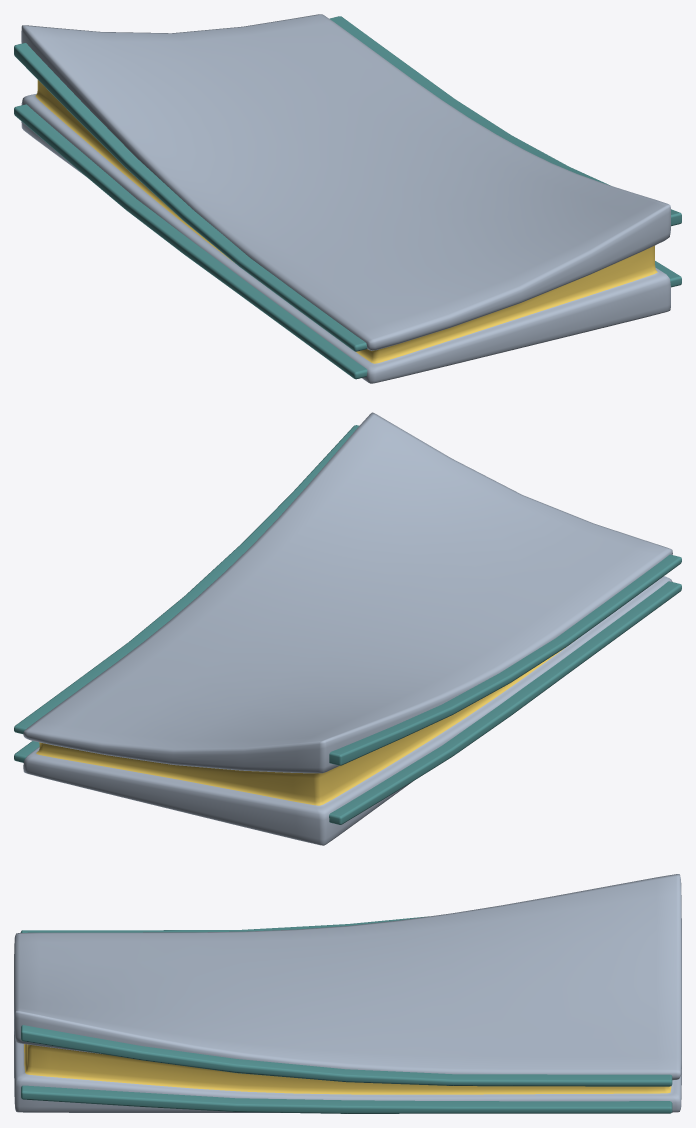
Rendered from SM_Left_Connection_Long_Curve_Platform_01.fbx.
3 views of the same model, one above another, from view 1: azimuth 30°, elevation 25°; view 2: azimuth 150°, elevation 25°; view 3: azimuth 270°, elevation 25° (orthographic). The views are drawn at different scales.
Parts seen in each view (by area): view 1: SM_Left_Connection_Long_Curve_Platform_01; view 2: SM_Left_Connection_Long_Curve_Platform_01; view 3: SM_Left_Connection_Long_Curve_Platform_01.
Part boxes in pixels (left/top/right/bottom): SM_Left_Connection_Long_Curve_Platform_01: left=14, top=14, right=681, bottom=383; SM_Left_Connection_Long_Curve_Platform_01: left=14, top=412, right=681, bottom=845; SM_Left_Connection_Long_Curve_Platform_01: left=14, top=874, right=681, bottom=1113.
Size of the model in its own units: 1620 by 508 by 2999.
